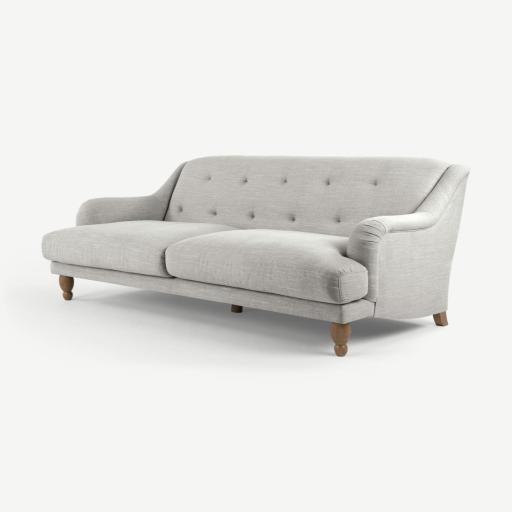back_cushion: (165, 157, 448, 236)
base: (51, 262, 373, 322)
left_arm: (346, 166, 467, 318)
legs: (330, 323, 350, 356), (59, 276, 73, 300), (434, 311, 447, 326), (232, 304, 242, 312)
right_arm: (76, 164, 184, 226)
seat_cushion: (42, 221, 367, 303)
two-seater: (0, 0, 511, 512)
